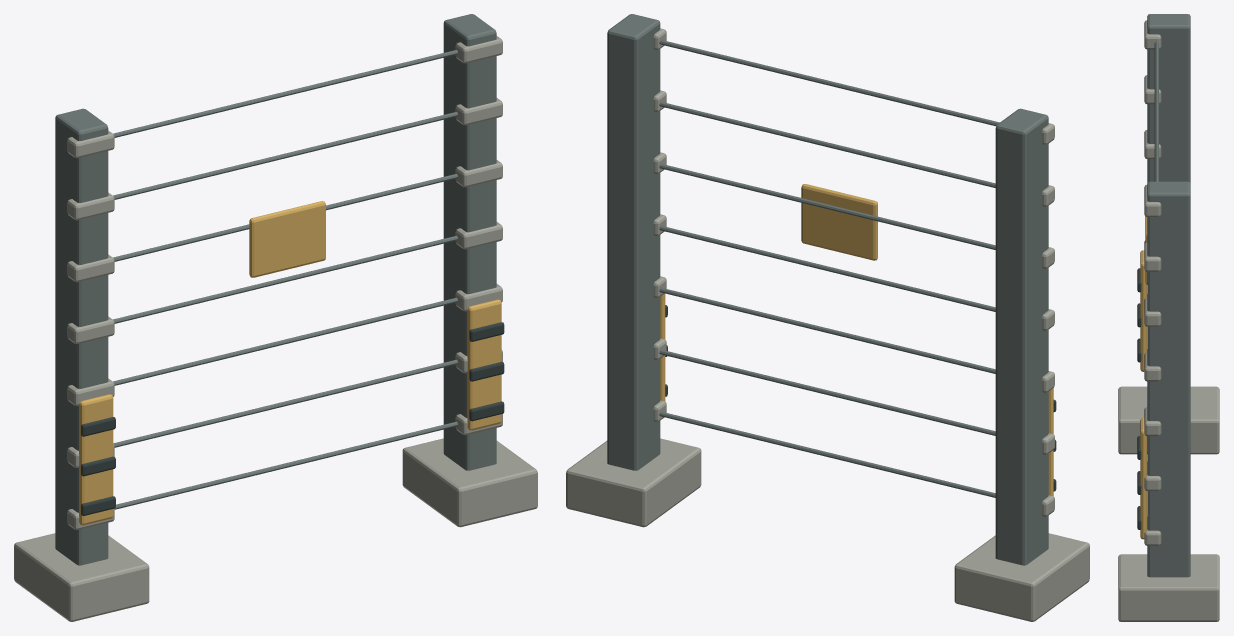
File: shelter.glb
3 views of the same model, side by side, from view 1: azimuth 30°, elevation 25°; view 2: azimuth 150°, elevation 25°; view 3: azimuth 270°, elevation 25° (orthographic). The views are drawn at different scales.
Parts seen in each view (by area): view 1: Barrier; view 2: Barrier; view 3: Barrier.
Part boxes in pixels (left/top/right/bottom): Barrier: left=14, top=14, right=537, bottom=621; Barrier: left=566, top=14, right=1089, bottom=621; Barrier: left=1118, top=14, right=1219, bottom=621.
Size of the model in its own units: 1.98 by 1.91 by 0.42.
